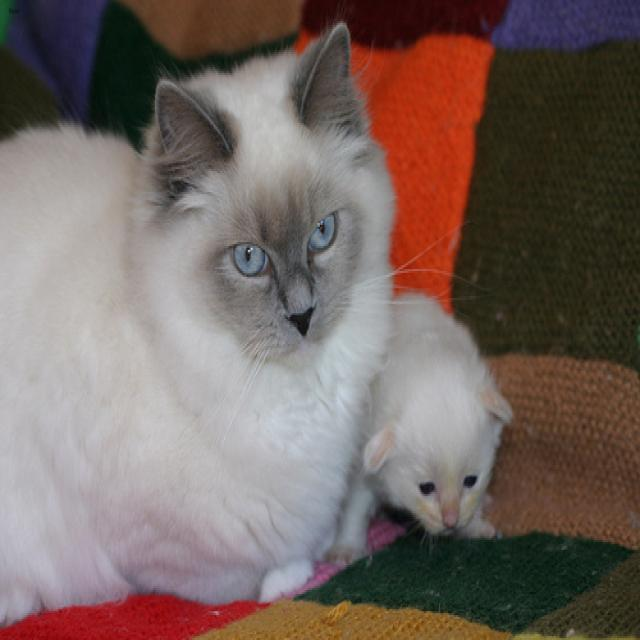Ragdoll: (128, 10, 397, 408)
